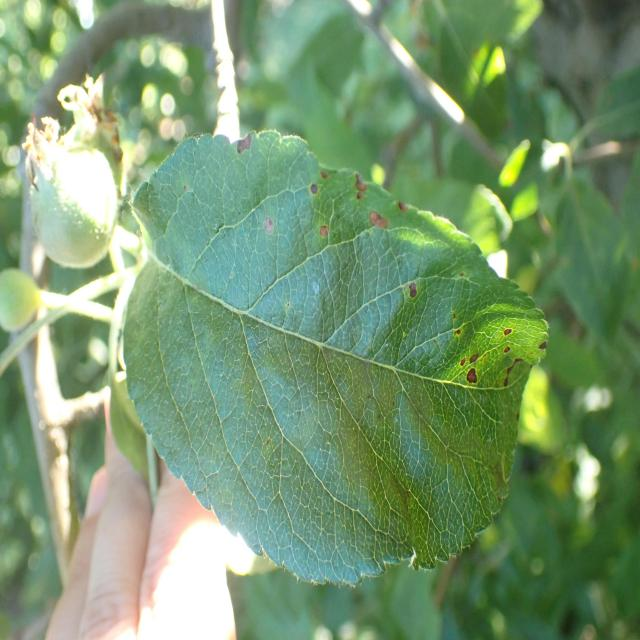Black Rot: (451, 319, 491, 424), (500, 319, 540, 424), (332, 135, 377, 222), (293, 139, 335, 204), (223, 108, 260, 179), (414, 242, 440, 322), (358, 210, 403, 253), (256, 204, 286, 258), (310, 213, 338, 264)
